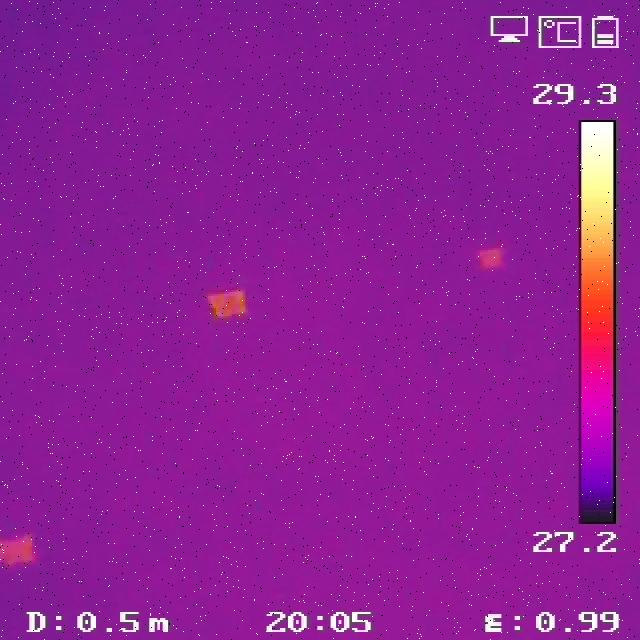Indistinguishable 4-bar target: (207, 290, 253, 316), (2, 533, 34, 567), (478, 246, 506, 266)
